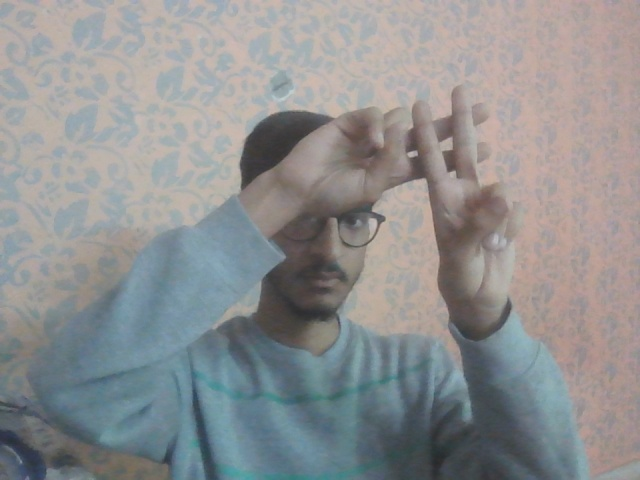HackJMI: (265, 79, 527, 318)
